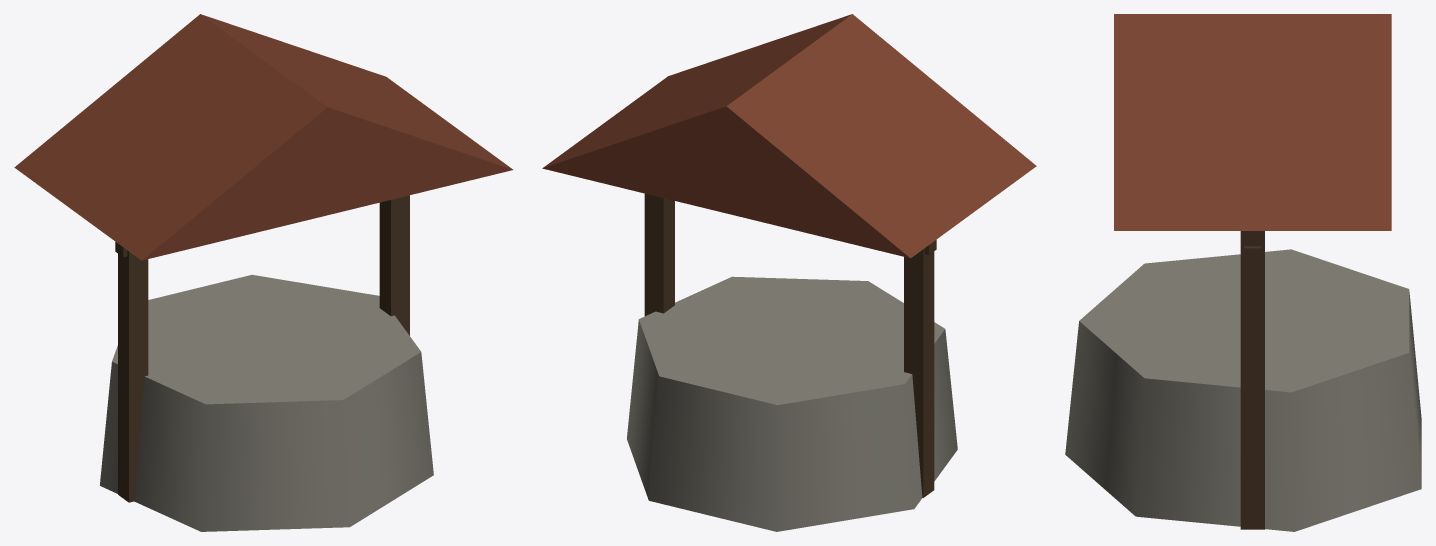
The picture shows the model from 3 angles, left to right: view 1: azimuth 30°, elevation 25°; view 2: azimuth 150°, elevation 25°; view 3: azimuth 270°, elevation 25°; orthographic projection. The views are drawn at different scales.
Visible parts, largest first — view 1: alpine-body; view 2: alpine-body; view 3: alpine-body.
Boxes of the visible parts, x1,y1,x2,y2 form: alpine-body: (14, 14, 513, 531); alpine-body: (542, 14, 1036, 531); alpine-body: (1065, 14, 1421, 531).
Bounding box in the file's own units: 2.7 × 2.8 × 2.05.
